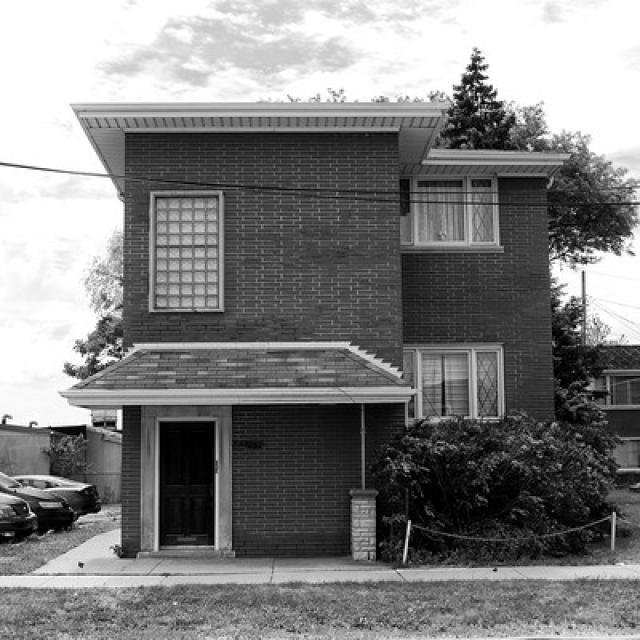building: (54, 98, 576, 569)
